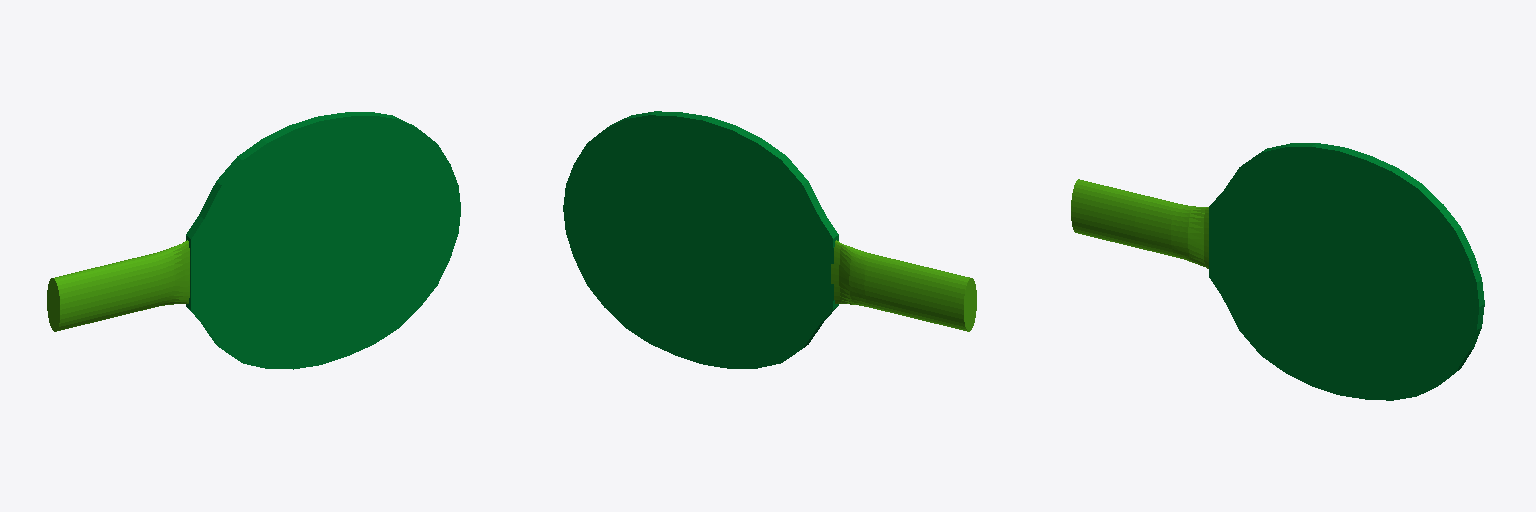
File: racket2.obj
The picture shows the model from 3 angles: view 1: azimuth 30°, elevation 25°; view 2: azimuth 150°, elevation 25°; view 3: azimuth 330°, elevation 25°; orthographic projection.
Parts seen in each view (by area): view 1: Cylinder01, Cylinder02; view 2: Cylinder01, Cylinder02; view 3: Cylinder01, Cylinder02.
Boxes of the visible parts, x1=… form: Cylinder01: x1=186, y1=112, x2=460, y2=369; Cylinder02: x1=47, y1=240, x2=189, y2=331; Cylinder01: x1=563, y1=111, x2=838, y2=368; Cylinder02: x1=831, y1=240, x2=976, y2=331; Cylinder01: x1=1209, y1=143, x2=1484, y2=400; Cylinder02: x1=1071, y1=179, x2=1208, y2=268.
Size of the model in its own units: 197 by 113 by 11.41.